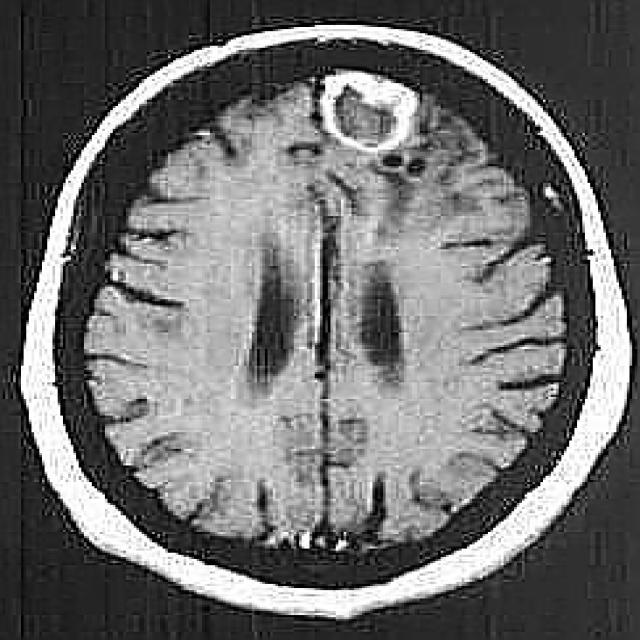Tumor-Cell: (294, 62, 432, 154)
